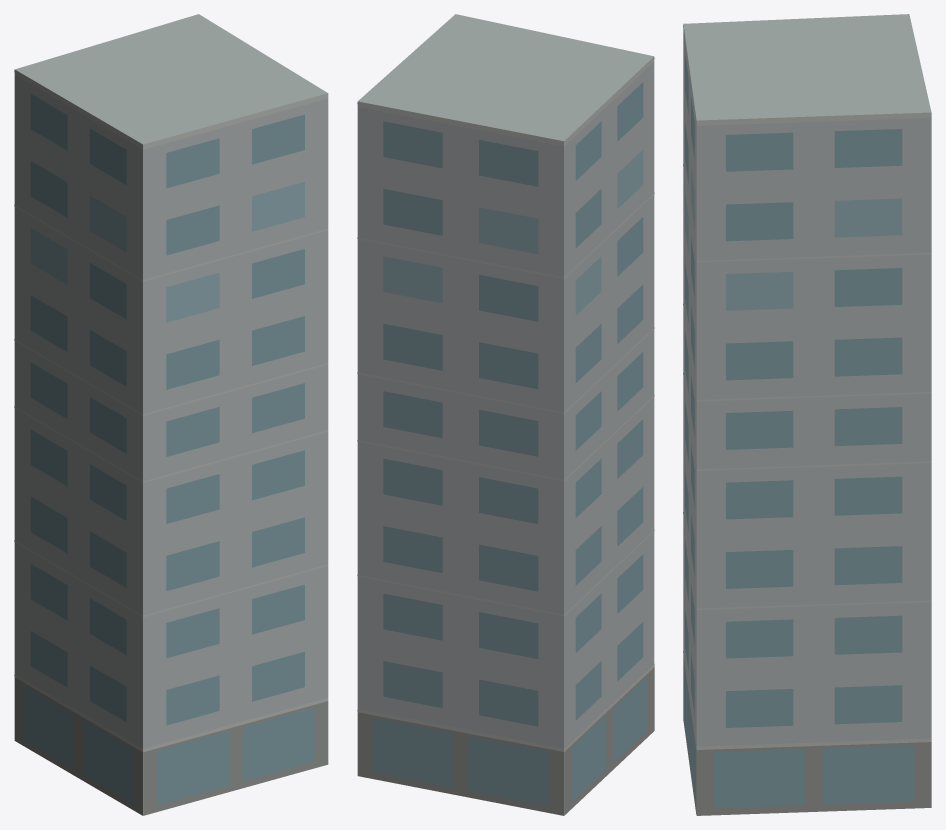
Rendered from survey-upis-32682168.glb.
3 views of the same model, side by side, from view 1: azimuth 30°, elevation 25°; view 2: azimuth 150°, elevation 25°; view 3: azimuth 270°, elevation 25° (orthographic). The views are drawn at different scales.
Parts seen in each view (by area): view 1: survey-upis-32682168.tmp; view 2: survey-upis-32682168.tmp; view 3: survey-upis-32682168.tmp.
Part boxes in pixels (box(x1,y1,x2,y2)): survey-upis-32682168.tmp: box(14, 14, 328, 815); survey-upis-32682168.tmp: box(357, 14, 654, 815); survey-upis-32682168.tmp: box(683, 14, 931, 815).
Size of the model in its own units: 10.18 by 30.9 by 10.02.
